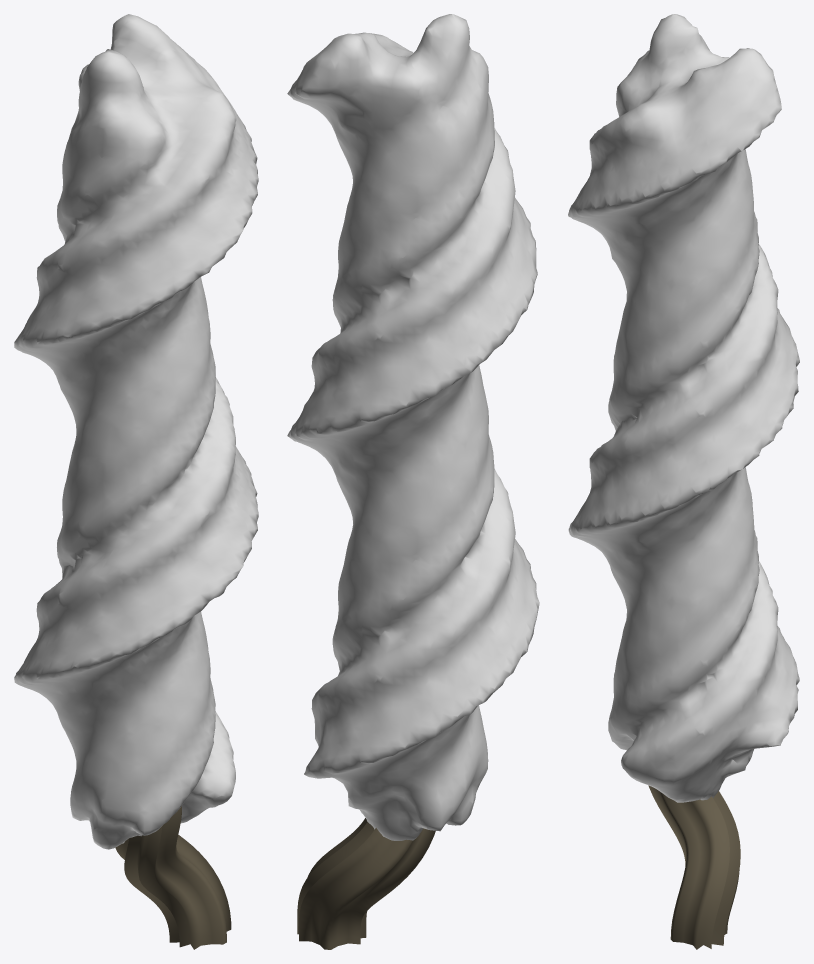
The model's file is SwivelTree.fbx.
3 renders of one model, left to right at view 1: azimuth 30°, elevation 25°; view 2: azimuth 150°, elevation 25°; view 3: azimuth 270°, elevation 25°, orthographic. The views are drawn at different scales.
Parts seen in each view (by area): view 1: SwivleTree; view 2: SwivleTree; view 3: SwivleTree.
Part boxes in pixels (left/top/right/bottom): SwivleTree: left=14, top=14, right=258, bottom=949; SwivleTree: left=287, top=14, right=539, bottom=949; SwivleTree: left=568, top=14, right=799, bottom=949.
Bounding box in the file's own units: 620 × 2585 × 622.
